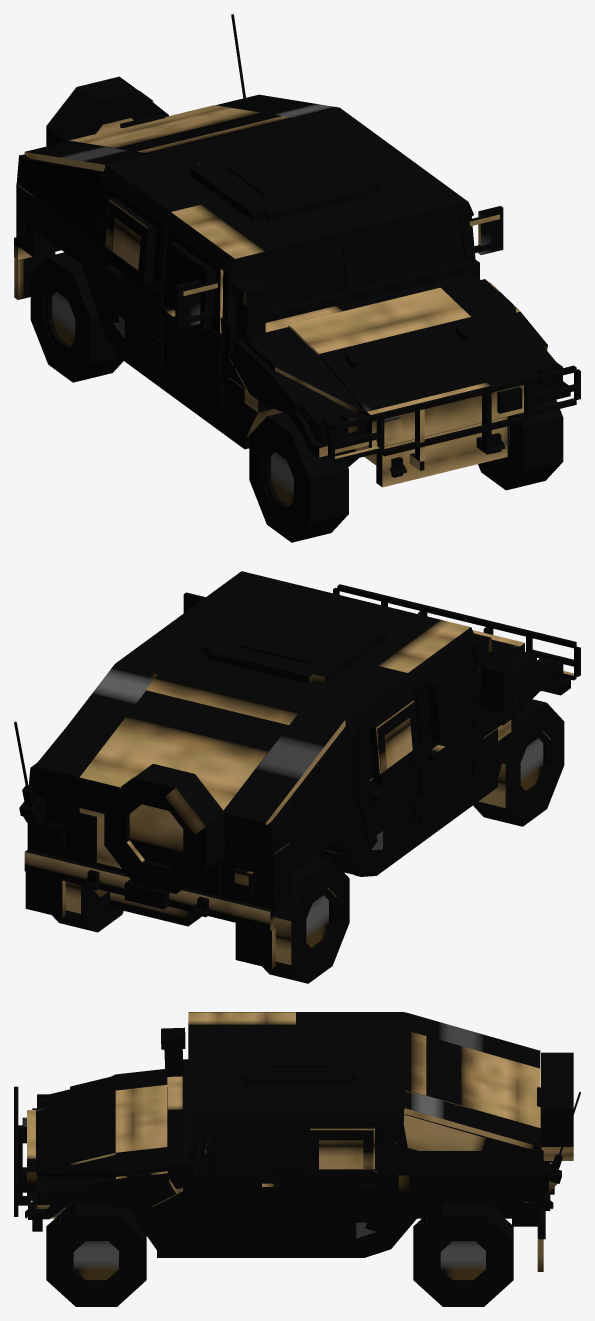
The model's file is hmmwv.obj.
3 views of the same model, one above another, from view 1: azimuth 30°, elevation 25°; view 2: azimuth 150°, elevation 25°; view 3: azimuth 270°, elevation 25° (orthographic). The views are drawn at different scales.
Visible parts, largest first — view 1: body, w1, w2, w3; view 2: body, w2, w1, w4; view 3: body, w4, w3.
Boxes of the visible parts, x1=… form: body: x1=14, y1=14, x2=580, y2=487; w1: x1=249, y1=412, x2=348, y2=542; w2: x1=30, y1=252, x2=123, y2=382; w3: x1=478, y1=400, x2=563, y2=490; body: x1=14, y1=571, x2=580, y2=968; w2: x1=262, y1=856, x2=349, y2=983; w1: x1=473, y1=699, x2=564, y2=826; w4: x1=52, y1=881, x2=123, y2=932; body: x1=14, y1=1012, x2=580, y2=1271; w4: x1=413, y1=1203, x2=513, y2=1306; w3: x1=46, y1=1203, x2=146, y2=1306.
Size of the model in its own units: 3.27 by 2.4 by 5.89.
